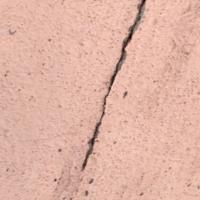crack: (74, 0, 157, 199)
